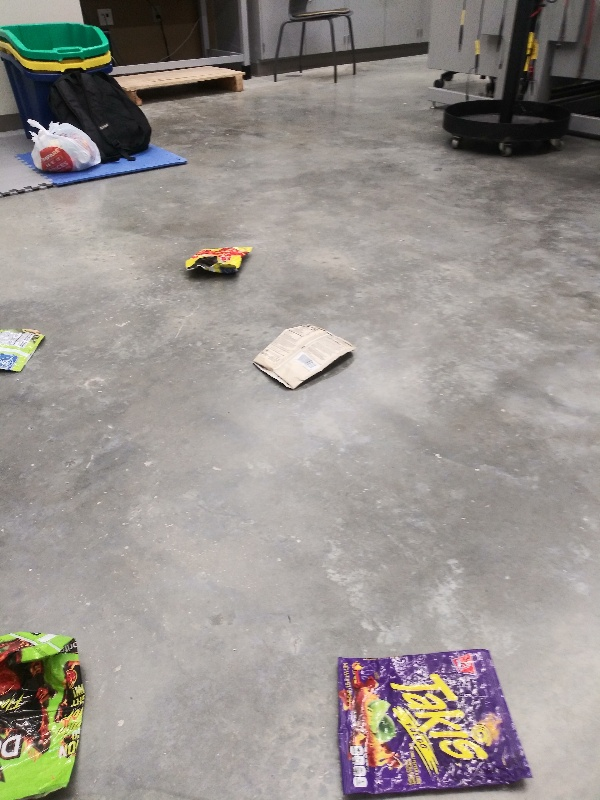bag: (330, 644, 552, 800), (1, 627, 92, 799), (250, 320, 360, 395), (181, 240, 256, 283), (1, 322, 48, 377)
